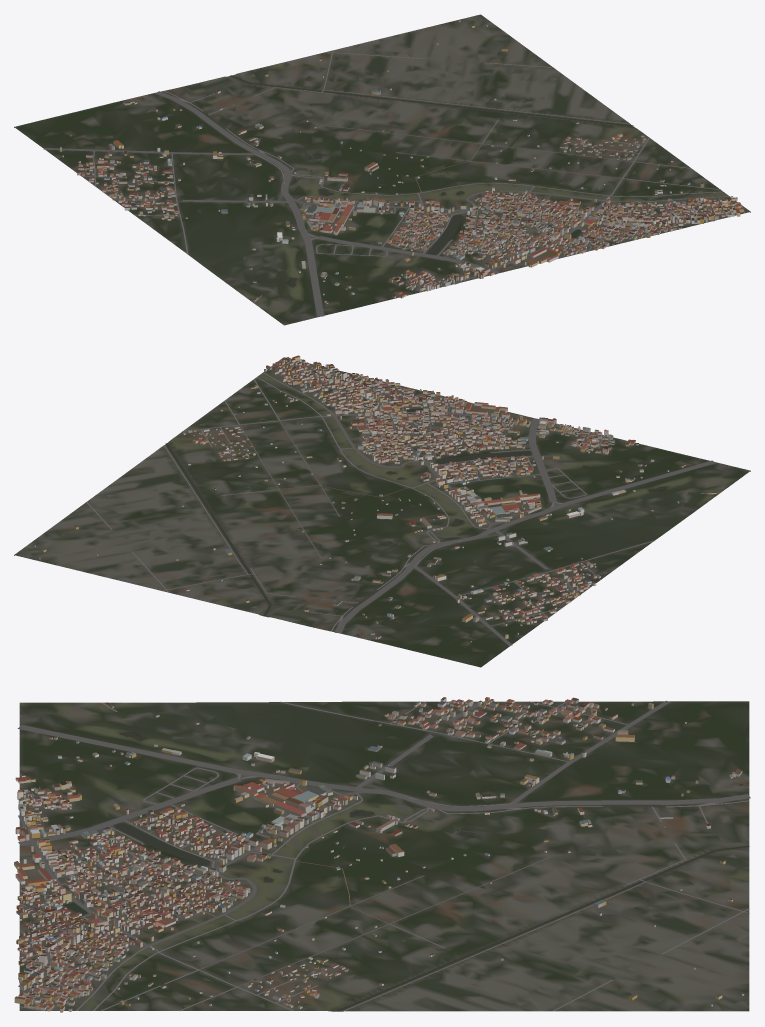
The picture shows the model from 3 angles, top to bottom: view 1: azimuth 30°, elevation 25°; view 2: azimuth 150°, elevation 25°; view 3: azimuth 270°, elevation 25°; orthographic projection. The views are drawn at different scales.
Visible parts, largest first — view 1: ground, buildings, roads, water; view 2: ground, buildings, roads, water; view 3: ground, buildings, roads, water.
Boxes of the visible parts, x1,y1,x2,y2 form: ground: (14,14,750,325); buildings: (60,20,743,303); roads: (43,50,744,316); water: (141,75,633,286); ground: (14,357,750,667); buildings: (34,355,716,642); roads: (86,365,720,645); water: (165,408,666,635); ground: (19,701,749,1011); buildings: (14,697,744,1012); roads: (17,700,750,1011); water: (64,723,749,1011).
Bounding box in the file's own units: 1413 × 25.36 × 1416.
